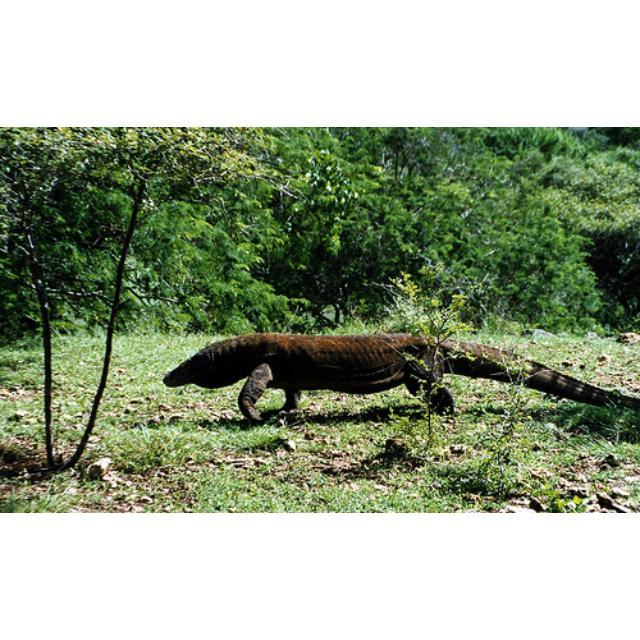KomodoDragon: (153, 330, 636, 423)
